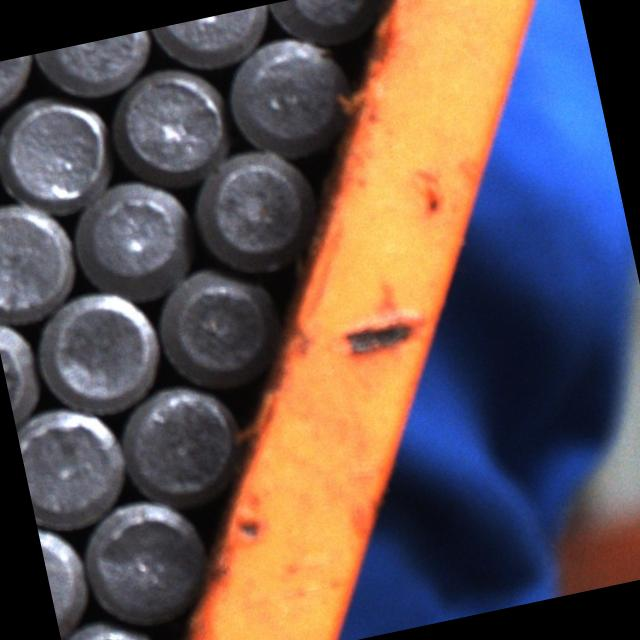tool: (71, 486, 219, 636), (216, 24, 360, 170), (27, 278, 172, 422), (146, 253, 286, 397), (185, 136, 322, 282), (61, 167, 202, 307), (108, 374, 250, 512), (103, 55, 239, 193), (13, 396, 136, 535), (0, 84, 122, 223), (0, 190, 87, 328), (32, 29, 162, 108), (150, 4, 276, 78), (265, 0, 389, 56), (58, 608, 165, 640)
